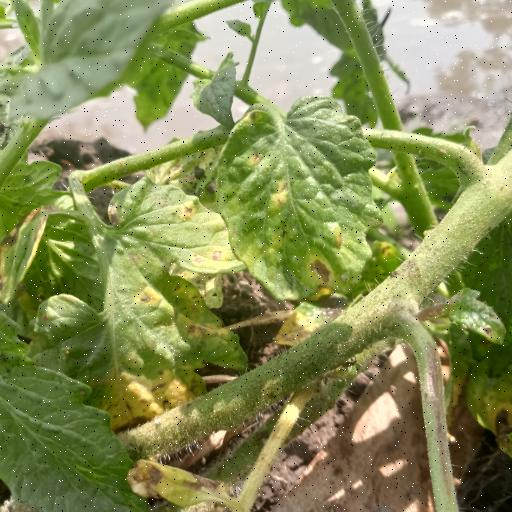Tomato_Brown_Spots: (4, 176, 249, 430), (208, 97, 382, 304)
